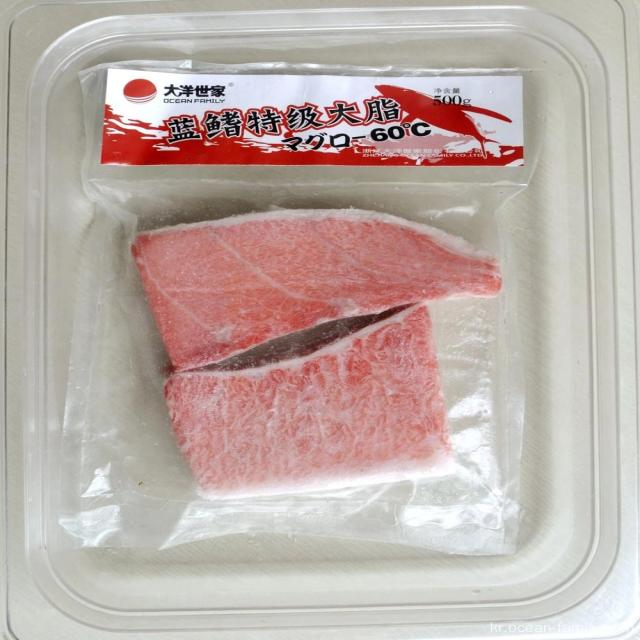pork: (58, 35, 555, 531)
